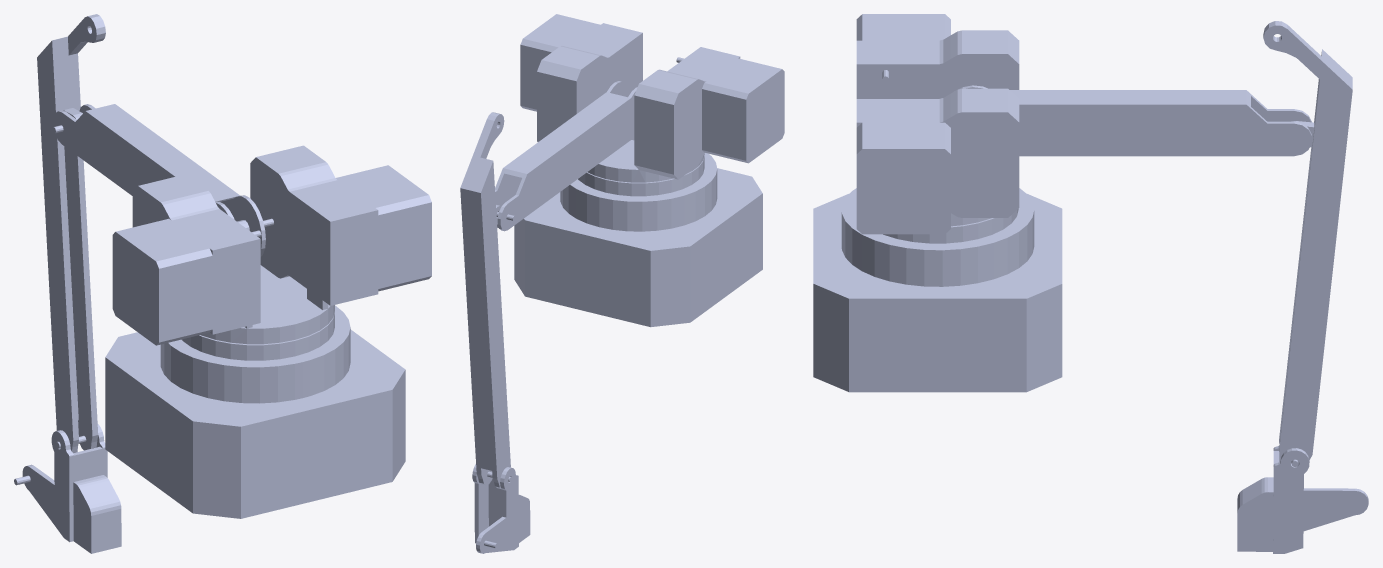
The model's file is swiftpro.dae.
The picture shows the model from 3 angles, left to right: view 1: azimuth 30°, elevation 25°; view 2: azimuth 150°, elevation 25°; view 3: azimuth 270°, elevation 25°; orthographic projection. The views are drawn at different scales.
Visible parts, largest first — view 1: base, link1, link3, link2, link4; view 2: base, link1, link3, link2, link4; view 3: base, link1, link2, link3, link4.
Boxes of the visible parts, bbox=[...] form: base: bbox=[105, 305, 405, 518]; link1: bbox=[112, 145, 431, 345]; link3: bbox=[37, 14, 105, 452]; link2: bbox=[52, 104, 265, 256]; link4: bbox=[14, 424, 121, 553]; base: bbox=[514, 153, 762, 327]; link1: bbox=[520, 14, 784, 182]; link3: bbox=[460, 112, 511, 489]; link2: bbox=[495, 81, 637, 231]; link4: bbox=[472, 464, 530, 553]; base: bbox=[813, 188, 1062, 392]; link1: bbox=[856, 14, 1019, 234]; link2: bbox=[954, 85, 1311, 156]; link3: bbox=[1263, 21, 1352, 466]; link4: bbox=[1237, 446, 1368, 553].
Bounding box in the file's own units: 0.1425 × 0.2475 × 0.2584.
